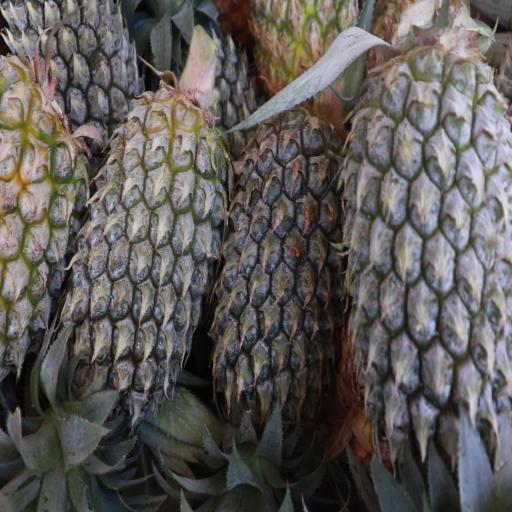------------------------------: (0, 64, 89, 360), (252, 0, 362, 113)
